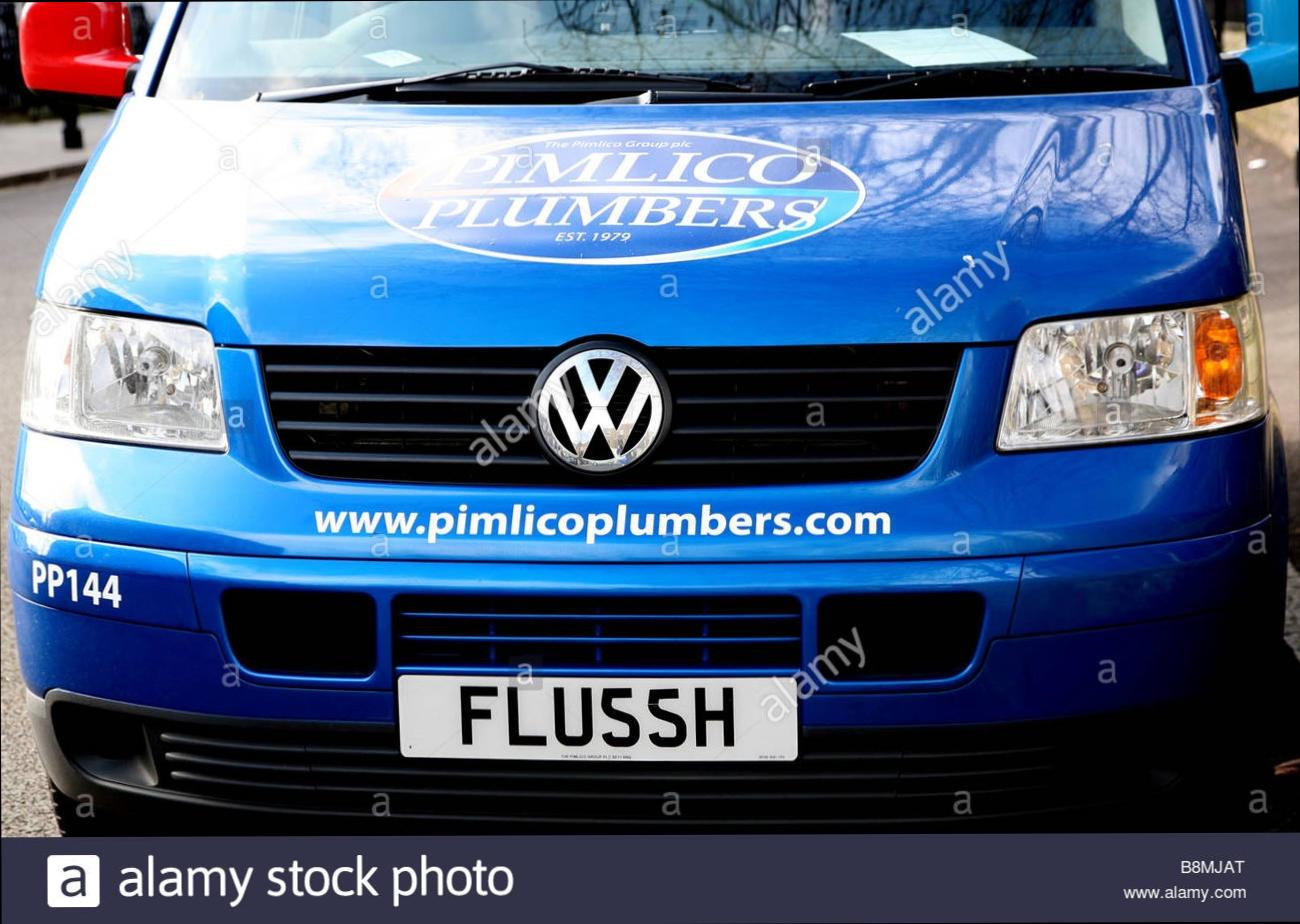plate: (396, 672, 800, 783)
